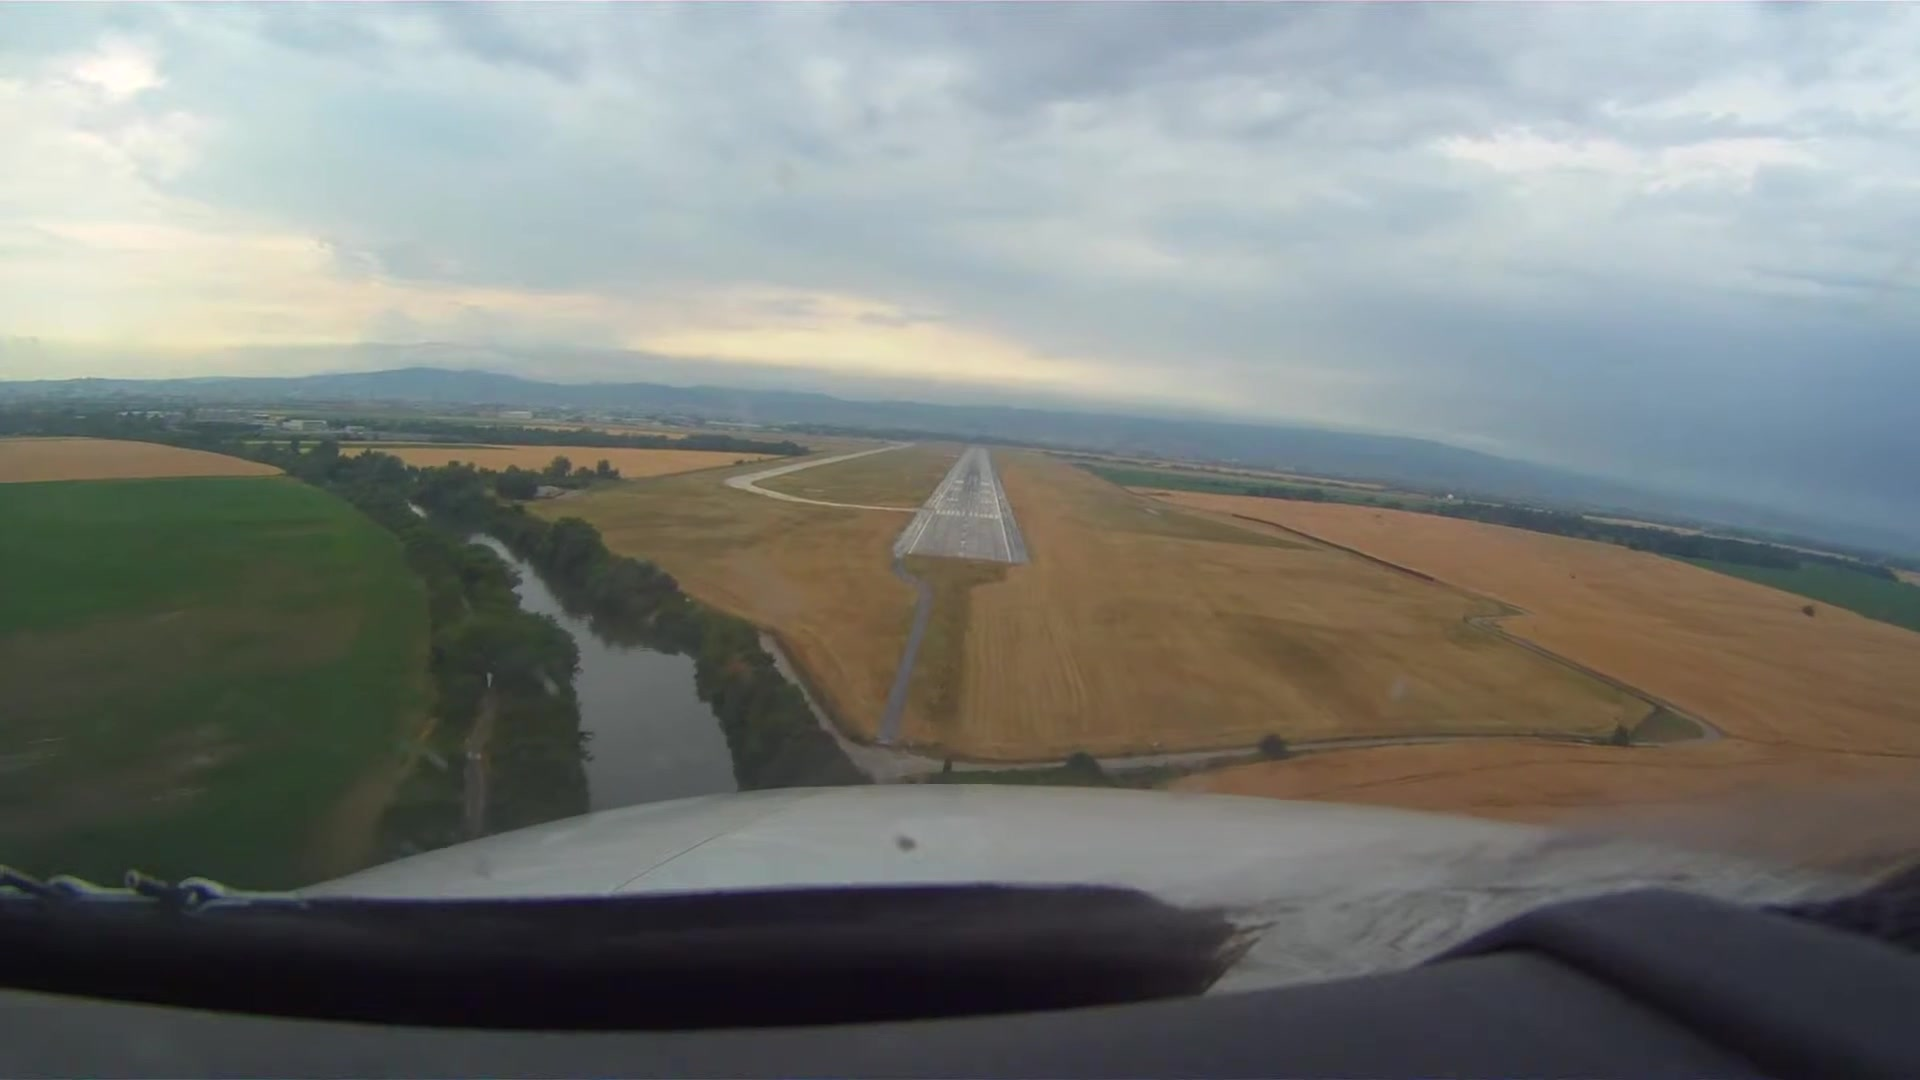entrance: (935, 506, 998, 518)
runway: (895, 447, 1027, 560)
